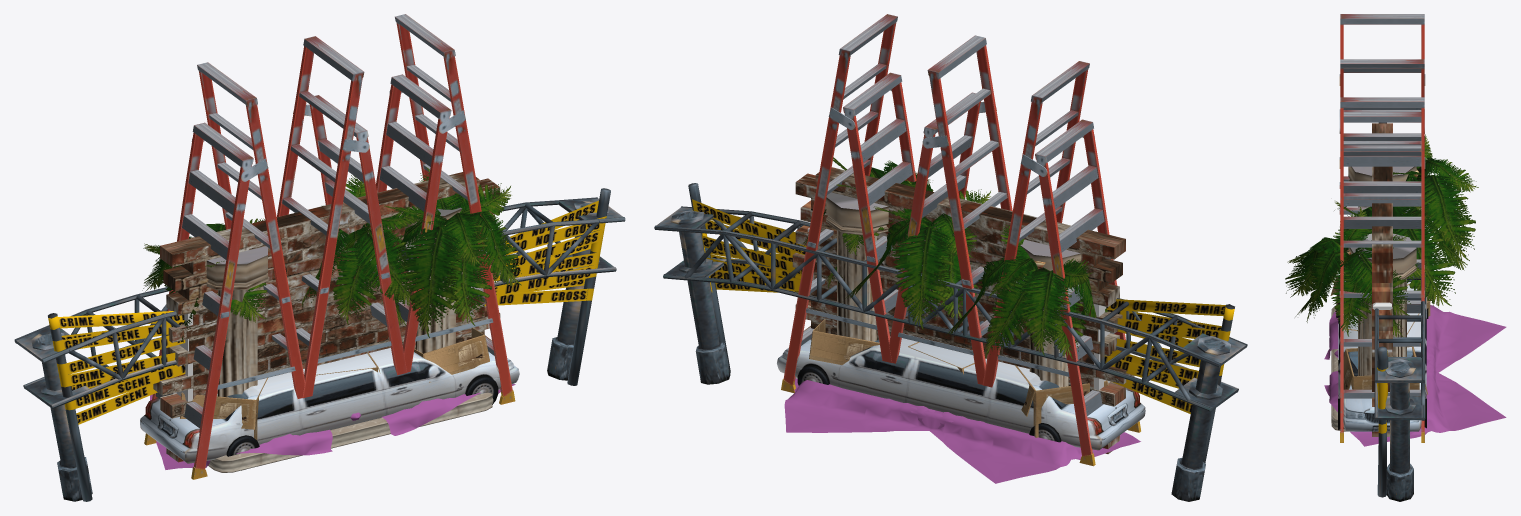
The model's file is Obstacles_Country.fbx.
3 renders of one model, left to right at view 1: azimuth 30°, elevation 25°; view 2: azimuth 150°, elevation 25°; view 3: azimuth 270°, elevation 25°, orthographic. The views are drawn at different scales.
Visible parts, largest first — view 1: obstacleRoadblock_BrickWall, obstacleJump_Limo_LMR, obstacleSlide_PoliceTape_LMR, obstacleSlide_Ladder_L, obstacleSlide_Ladder_M, obstacleSlide_Ladder_R, obstacleEvade_PalmTree_R, obstacleSlide_HighwaySign_LM, obstacleEvade_Columns_LR, obstacleEvade_PalmTree_M, obstacleSlide_HighwaySign_MR, obstacleJump_Sleeper_LM (+4 smaller); view 2: obstacleRoadblock_BrickWall, obstacleJump_Limo_LMR, obstacleSlide_Ladder_R, obstacleSlide_Ladder_L, obstacleSlide_Ladder_M, obstacleSlide_HighwaySign_MR, obstacleSlide_PoliceTape_LMR, obstacleSlide_HighwaySign_LM, obstacleEvade_PalmTree_L, obstacleEvade_PalmTree_M, obstacleJump_Sleeper_LM, obstacleEvade_Columns_LR (+4 smaller); view 3: obstacleSlide_Ladder_R, obstacleEvade_PalmTree_R, obstacleSlide_HighwaySign_MR, obstacleJump_Sleeper_MR, obstacleSlide_Ladder_M, obstacleEvade_PalmTree_L, obstacleJump_Sleeper_LM, obstacleRoadblock_BrickWall, obstacleEvade_PalmTree_M, obstacleEvade_Columns_LR, obstacleSlide_Ladder_L, obstacleJump_Limo_LMR (+2 smaller).
Boxes of the visible parts, x1,y1,x2,y2 form: obstacleRoadblock_BrickWall: [153, 172, 500, 462]; obstacleJump_Limo_LMR: [140, 348, 519, 470]; obstacleSlide_PoliceTape_LMR: [48, 188, 610, 501]; obstacleSlide_Ladder_L: [144, 62, 304, 479]; obstacleSlide_Ladder_M: [277, 36, 407, 398]; obstacleSlide_Ladder_R: [376, 14, 515, 404]; obstacleEvade_PalmTree_R: [367, 167, 521, 337]; obstacleSlide_HighwaySign_LM: [14, 287, 179, 501]; obstacleEvade_Columns_LR: [206, 204, 462, 397]; obstacleEvade_PalmTree_M: [302, 175, 423, 325]; obstacleSlide_HighwaySign_MR: [494, 197, 625, 380]; obstacleJump_Sleeper_LM: [150, 394, 386, 472]; obstacleRoadblock_BrickWall: [792, 167, 1134, 453]; obstacleJump_Limo_LMR: [777, 336, 1145, 450]; obstacleSlide_Ladder_R: [781, 14, 916, 392]; obstacleSlide_Ladder_L: [982, 61, 1140, 466]; obstacleSlide_Ladder_M: [889, 35, 1012, 384]; obstacleSlide_HighwaySign_MR: [654, 206, 972, 384]; obstacleSlide_PoliceTape_LMR: [688, 183, 1234, 462]; obstacleSlide_HighwaySign_LM: [913, 270, 1247, 501]; obstacleEvade_PalmTree_L: [943, 219, 1108, 359]; obstacleEvade_PalmTree_M: [845, 179, 990, 330]; obstacleJump_Sleeper_LM: [910, 407, 1140, 483]; obstacleEvade_Columns_LR: [826, 192, 1081, 387]; obstacleSlide_Ladder_R: [1338, 97, 1425, 442]; obstacleEvade_PalmTree_R: [1285, 206, 1429, 337]; obstacleSlide_HighwaySign_MR: [1374, 258, 1425, 501]; obstacleJump_Sleeper_MR: [1324, 349, 1506, 446]; obstacleSlide_Ladder_M: [1339, 59, 1426, 318]; obstacleEvade_PalmTree_L: [1334, 134, 1478, 260]; obstacleJump_Sleeper_LM: [1324, 305, 1506, 372]; obstacleRoadblock_BrickWall: [1372, 123, 1392, 436]; obstacleEvade_PalmTree_M: [1329, 201, 1467, 315]; obstacleEvade_Columns_LR: [1348, 166, 1416, 375]; obstacleSlide_Ladder_L: [1338, 14, 1425, 274]; obstacleJump_Limo_LMR: [1336, 281, 1428, 431].
Size of the model in its own units: 707 by 281 by 450.
1 material, 1 textured.
